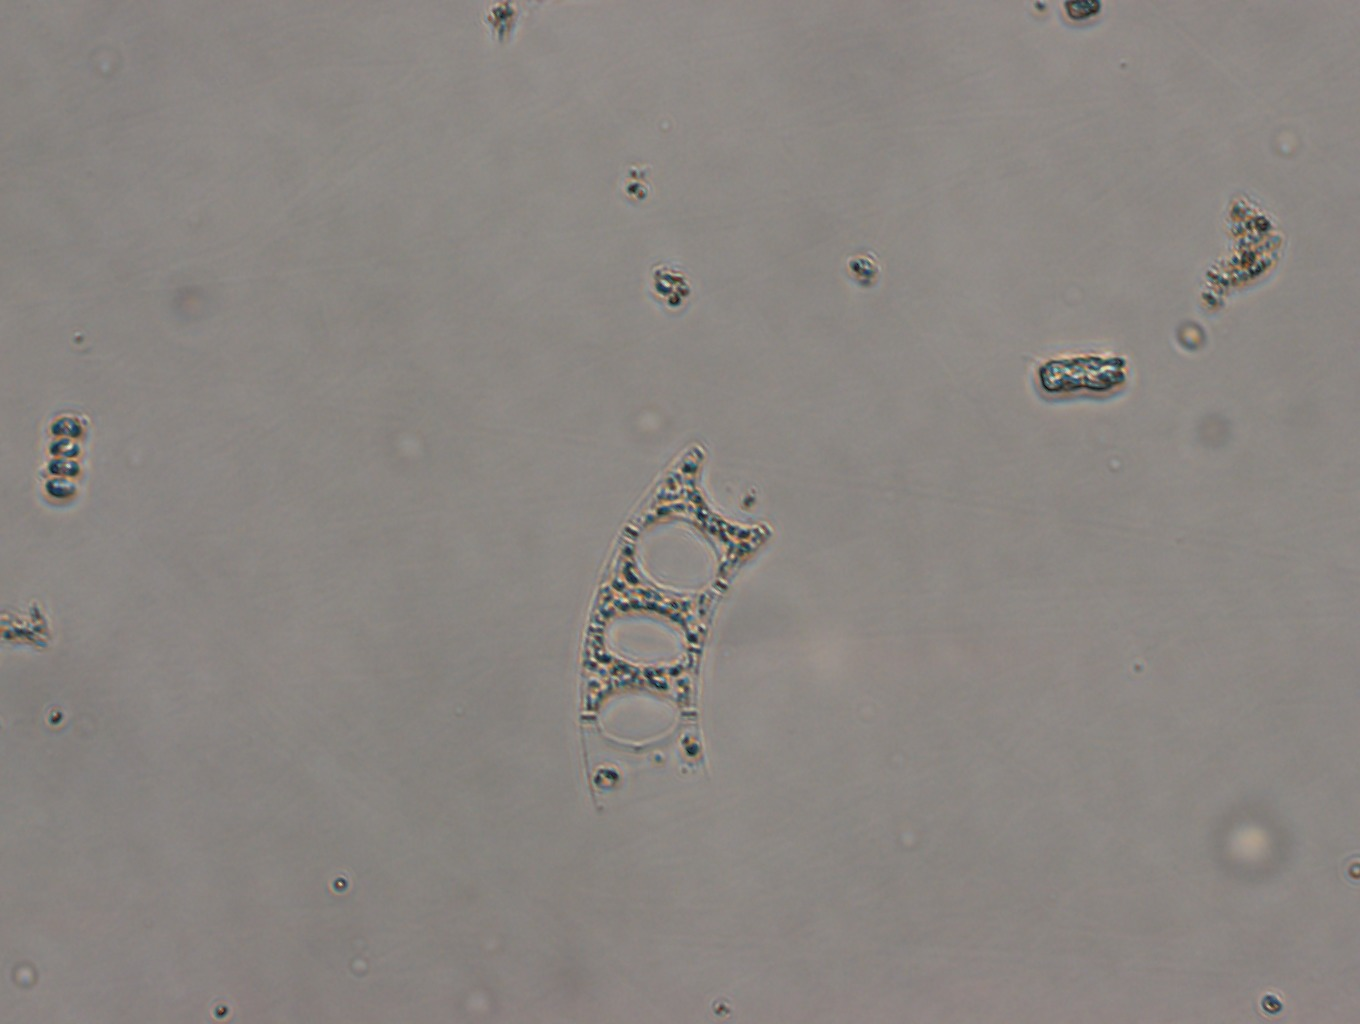eucampia: (577, 437, 777, 815)
skeletonema: (39, 413, 91, 504)
